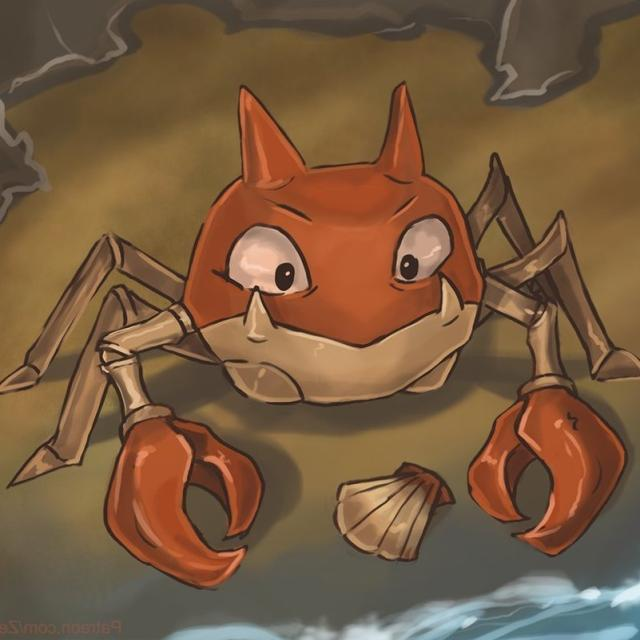Krabby: (64, 130, 614, 522)
